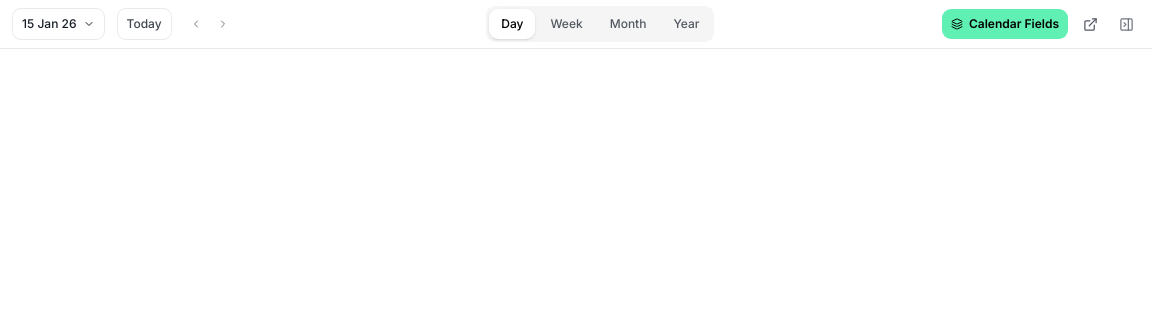
Test case: CalendarHeader › date picker › closes date picker on outside click
Click the button "15 Jan 26" at (58, 24), box [12,8,104,40]
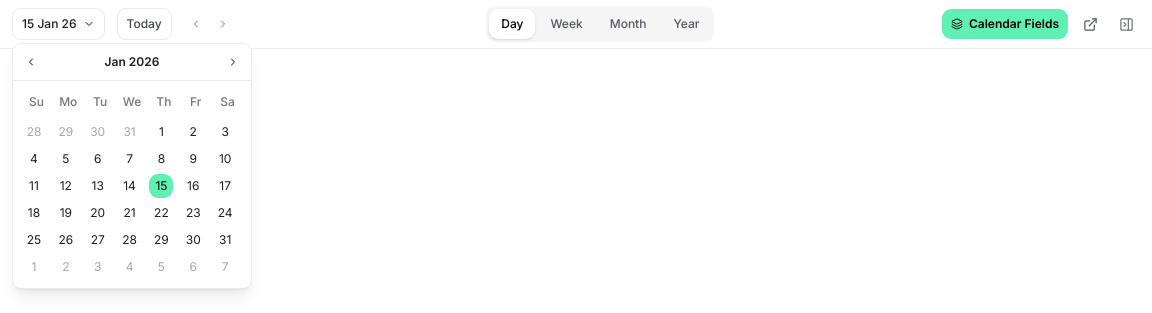
Press the mouse on the element showing "15 Jan 26 Today Day Week Month Year Calendar Fields" at (576, 24), box [0,0,1151,49]
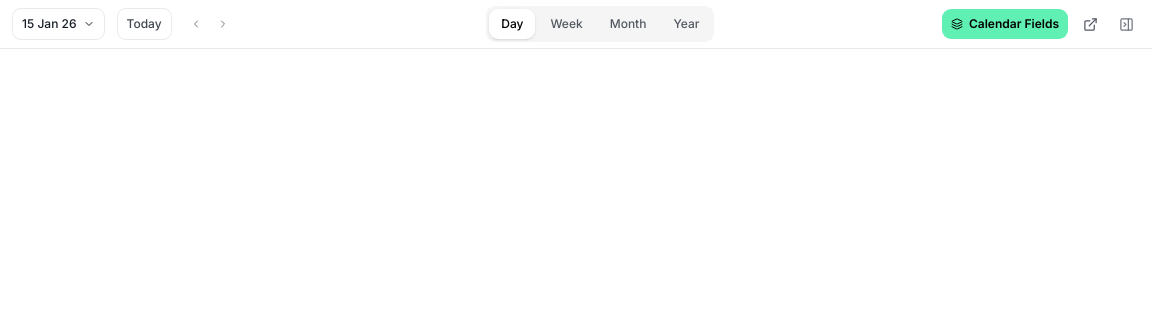
Result: the element with class "z-50" is gone
